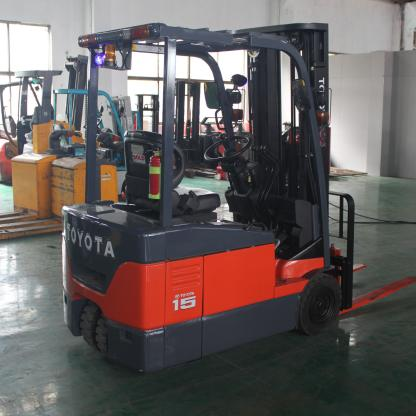forklift: (59, 22, 357, 374)
